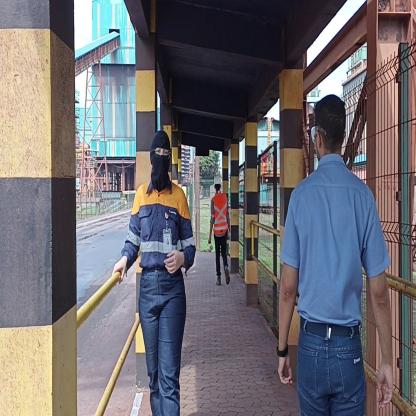Balaclava: (148, 126, 172, 189)
Capacete: (213, 174, 222, 186)
Operacional: (122, 182, 196, 266)
colete: (212, 192, 228, 237)
